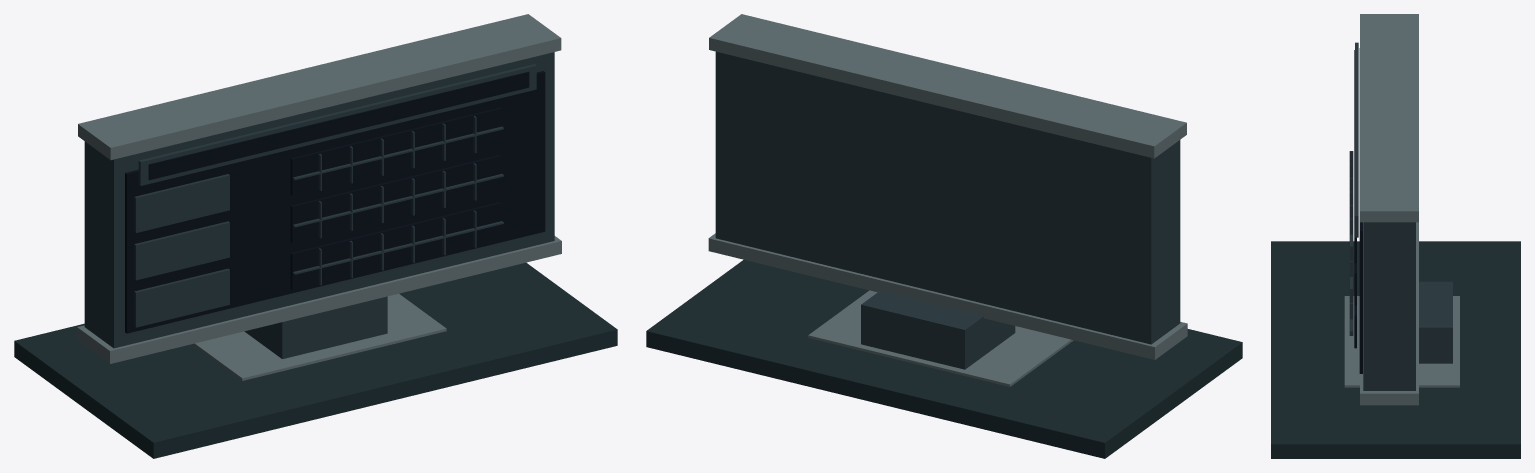
File: splitflap_rivalry_d0_lod1.glb
3 renders of one model, left to right at view 1: azimuth 30°, elevation 25°; view 2: azimuth 150°, elevation 25°; view 3: azimuth 270°, elevation 25°, orthographic. The views are drawn at different scales.
Visible parts, largest first — view 1: RIVALRY_STRUCTURE; view 2: RIVALRY_STRUCTURE; view 3: RIVALRY_STRUCTURE.
Boxes of the visible parts, x1,y1,x2,y2 form: RIVALRY_STRUCTURE: [14, 14, 617, 458]; RIVALRY_STRUCTURE: [646, 14, 1242, 458]; RIVALRY_STRUCTURE: [1271, 14, 1520, 458].
Size of the model in its own units: 7.5 by 4.22 by 3.9.
